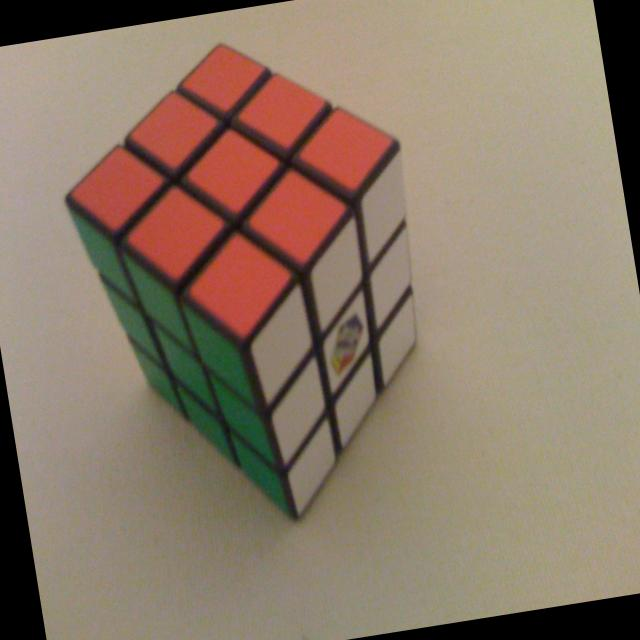Toy: (43, 18, 456, 549)
